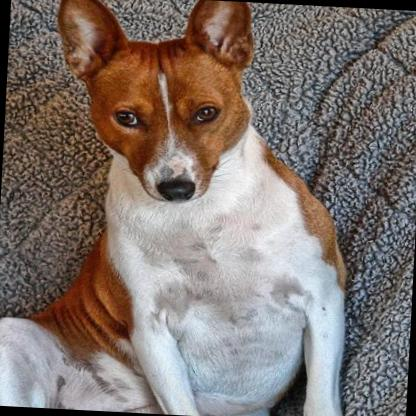basenji: (0, 0, 360, 416)
